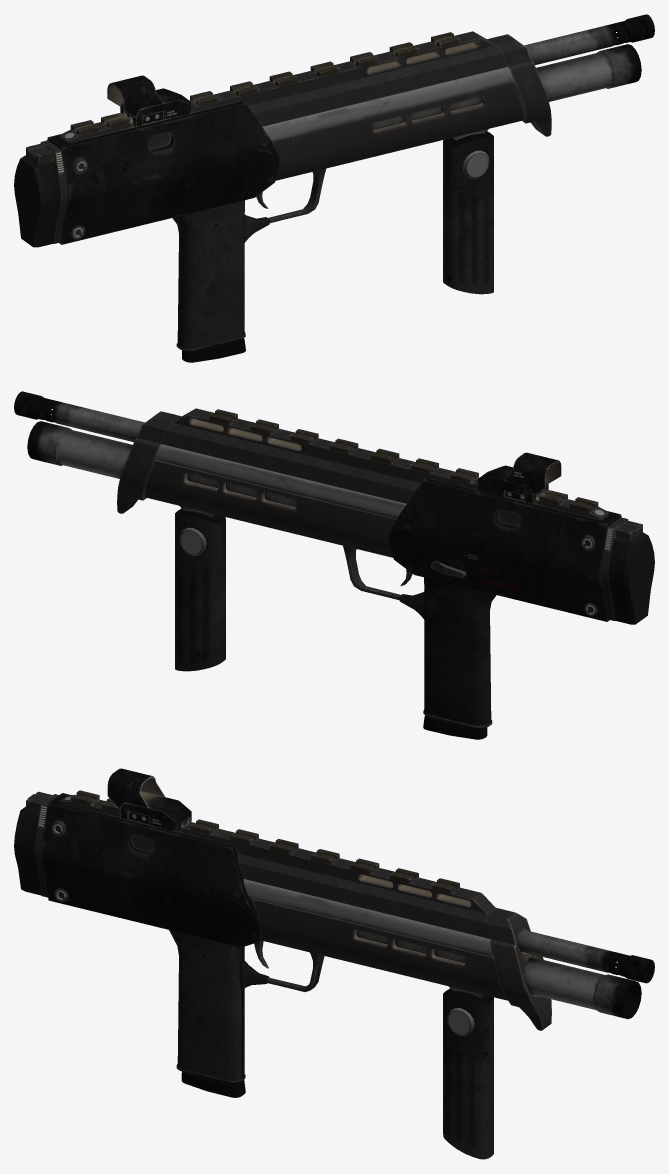
The model's file is half_life_2_smg1.glb.
The picture shows the model from 3 angles, top to bottom: view 1: azimuth 30°, elevation 25°; view 2: azimuth 150°, elevation 25°; view 3: azimuth 330°, elevation 25°; orthographic projection.
Parts seen in each view (by area): view 1: Plane.002; view 2: Plane.002; view 3: Plane.002.
Part boxes in pixels (left/top/right/bottom): Plane.002: left=14, top=14, right=654, bottom=362; Plane.002: left=14, top=391, right=654, bottom=739; Plane.002: left=14, top=768, right=654, bottom=1159.
Size of the model in its own units: 20.37 by 9.2 by 1.59.
1 material, 1 textured.
